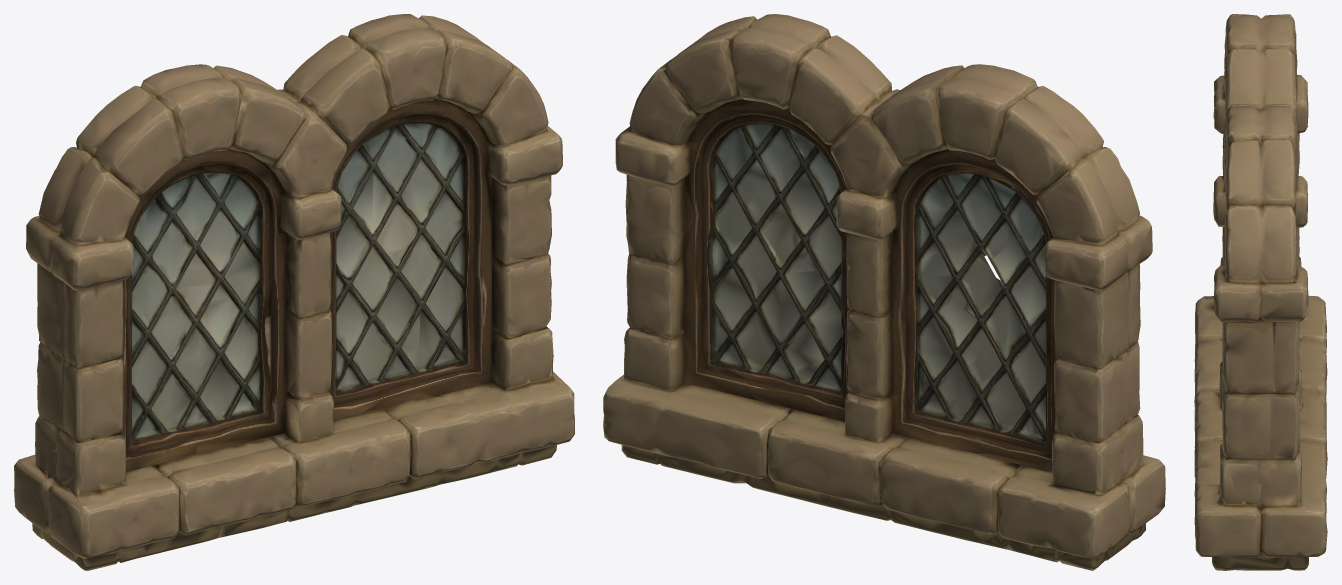
Rendered from mod_win_d.glb.
The picture shows the model from 3 angles, left to right: view 1: azimuth 30°, elevation 25°; view 2: azimuth 150°, elevation 25°; view 3: azimuth 270°, elevation 25°; orthographic projection. The views are drawn at different scales.
Visible parts, largest first — view 1: tripo_node_a25eea4e-042b-42ec-b1d4-a11ab3ec56a4; view 2: tripo_node_a25eea4e-042b-42ec-b1d4-a11ab3ec56a4; view 3: tripo_node_a25eea4e-042b-42ec-b1d4-a11ab3ec56a4.
Part boxes in pixels (x1,y1,x2,y2): tripo_node_a25eea4e-042b-42ec-b1d4-a11ab3ec56a4: [14, 14, 574, 570]; tripo_node_a25eea4e-042b-42ec-b1d4-a11ab3ec56a4: [603, 14, 1165, 570]; tripo_node_a25eea4e-042b-42ec-b1d4-a11ab3ec56a4: [1194, 14, 1327, 570].
Bounding box in the file's own units: 0.9813 × 0.8337 × 0.2521.
1 material, 1 textured.
